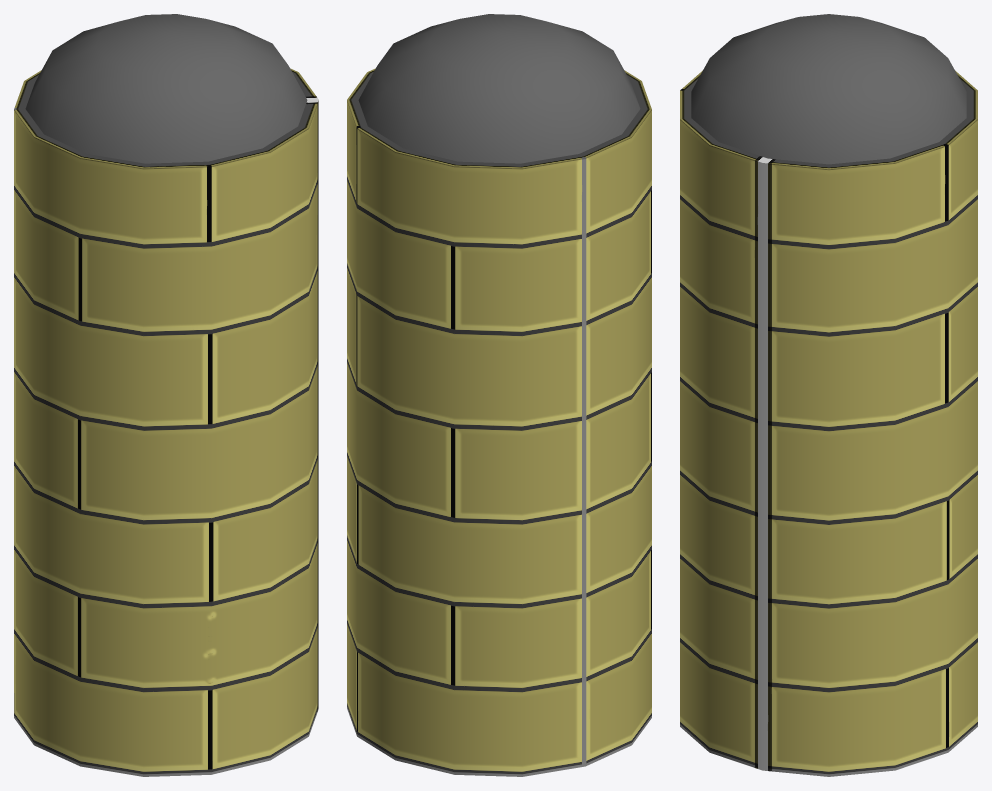
File: Silo.fbx
3 views of the same model, side by side, from view 1: azimuth 30°, elevation 25°; view 2: azimuth 150°, elevation 25°; view 3: azimuth 270°, elevation 25° (orthographic).
Visible parts, largest first — view 1: pCylinder1; view 2: pCylinder1; view 3: pCylinder1.
Part boxes in pixels (x1,y1,x2,y2): pCylinder1: (14, 14, 318, 776); pCylinder1: (347, 14, 651, 776); pCylinder1: (680, 14, 977, 776).
Size of the model in its own units: 39.33 by 38.35 by 96.33.
Materials: 1 (1 with a texture image).
